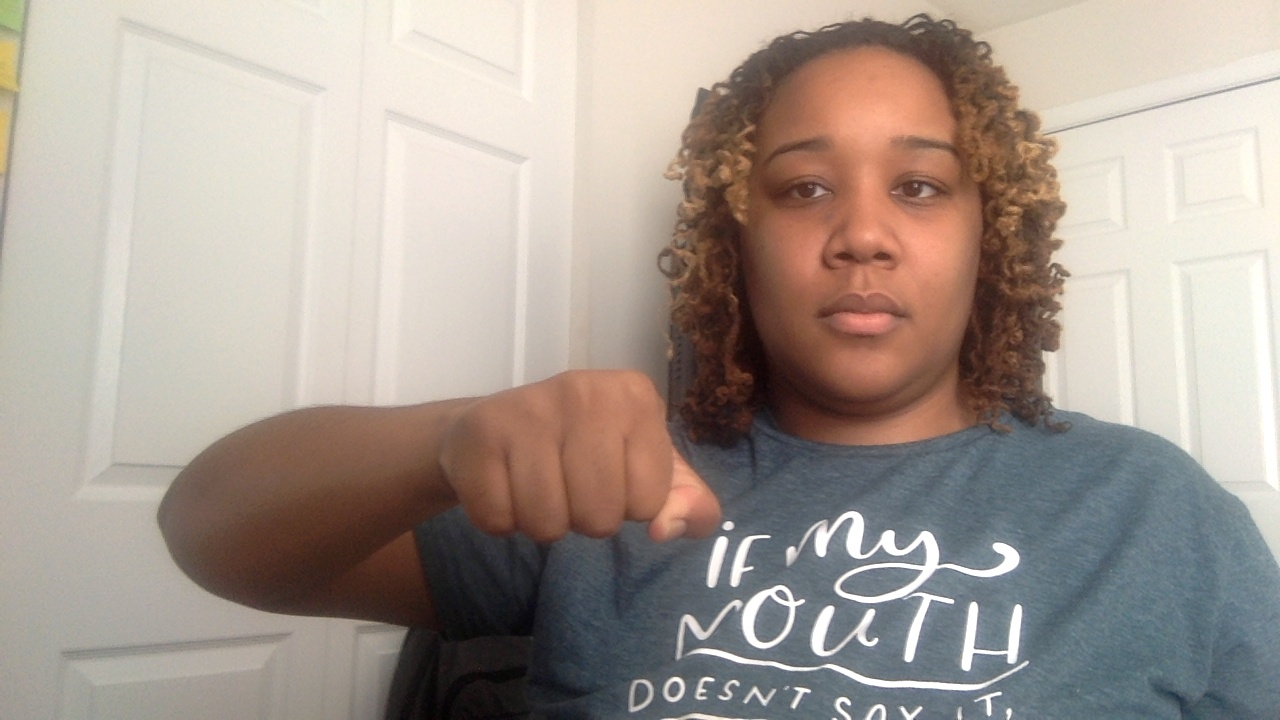yes: (420, 336, 742, 608)
